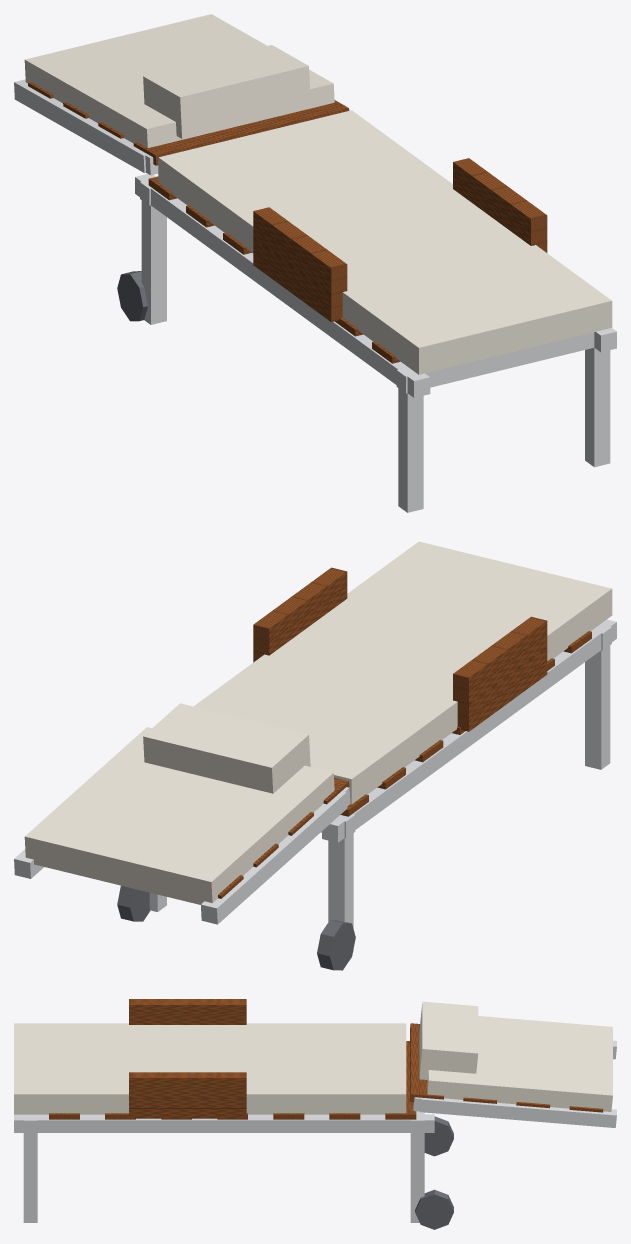
Rendered from cruise-ship-deck-and-lounge-cruise-ship-deck-and-loung-ff32cded__38435.glb.
3 renders of one model, top to bottom at view 1: azimuth 30°, elevation 25°; view 2: azimuth 150°, elevation 25°; view 3: azimuth 270°, elevation 25°, orthographic. The views are drawn at different scales.
Parts seen in each view (by area): view 1: cruise-ship-deck-and-lounge-sun-lounger; view 2: cruise-ship-deck-and-lounge-sun-lounger; view 3: cruise-ship-deck-and-lounge-sun-lounger.
Boxes of the visible parts, x1,y1,x2,y2 form: cruise-ship-deck-and-lounge-sun-lounger: (14, 14, 616, 512); cruise-ship-deck-and-lounge-sun-lounger: (14, 541, 616, 970); cruise-ship-deck-and-lounge-sun-lounger: (14, 999, 616, 1229).
Size of the model in its own units: 0.67 by 0.6517 by 2.15.
4 materials, 1 textured.
